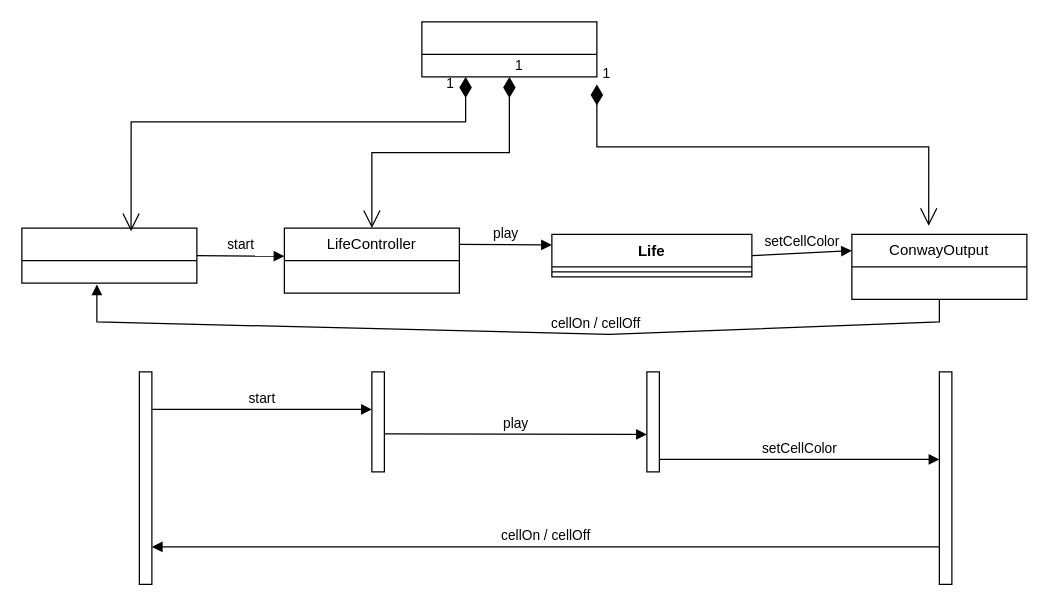
Image size: 1049x606. Some labels were removed from this diagram. The box of each missing label's shape, as (x1, y1, x2, y2) in pixels:
ConwayIO: (21, 227, 197, 283)
MainConway: (421, 21, 597, 77)
